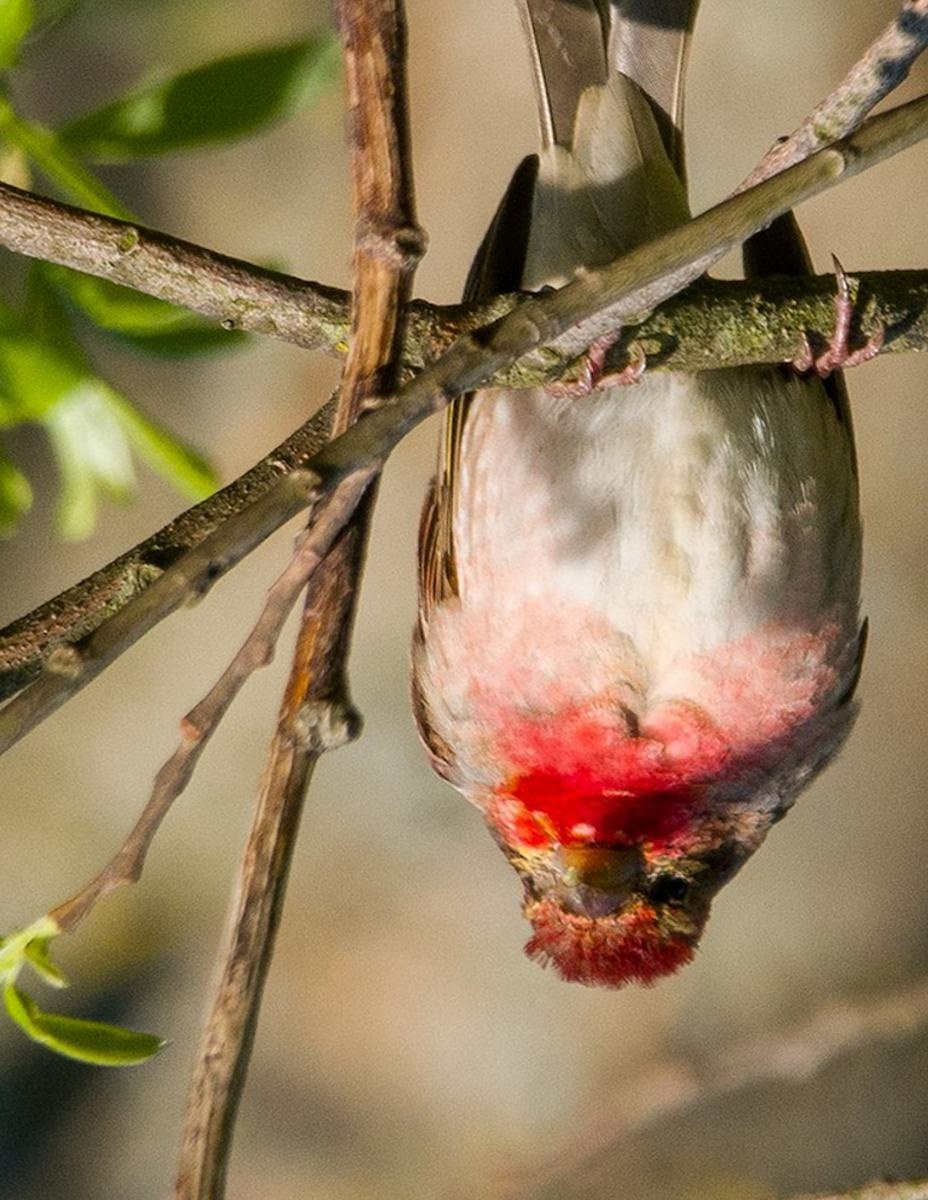rosefinch: (435, 146, 889, 1009)
